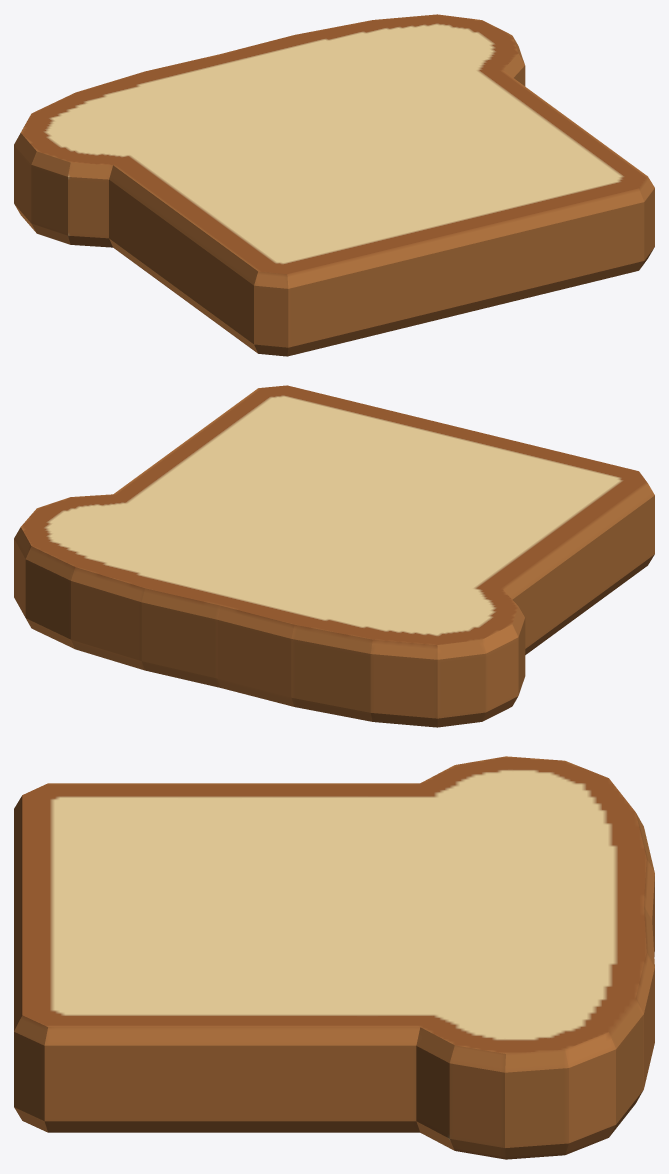
The model's file is BreadSlice.fbx.
The picture shows the model from 3 angles, top to bottom: view 1: azimuth 30°, elevation 25°; view 2: azimuth 150°, elevation 25°; view 3: azimuth 270°, elevation 25°; orthographic projection. The views are drawn at different scales.
Parts seen in each view (by area): view 1: BreadSlice; view 2: BreadSlice; view 3: BreadSlice.
Boxes of the visible parts, x1,y1,x2,y2 form: BreadSlice: [14, 14, 654, 356]; BreadSlice: [14, 385, 654, 727]; BreadSlice: [14, 756, 654, 1159].
Bounding box in the file's own units: 260 × 42 × 231.
1 material, 1 textured.
